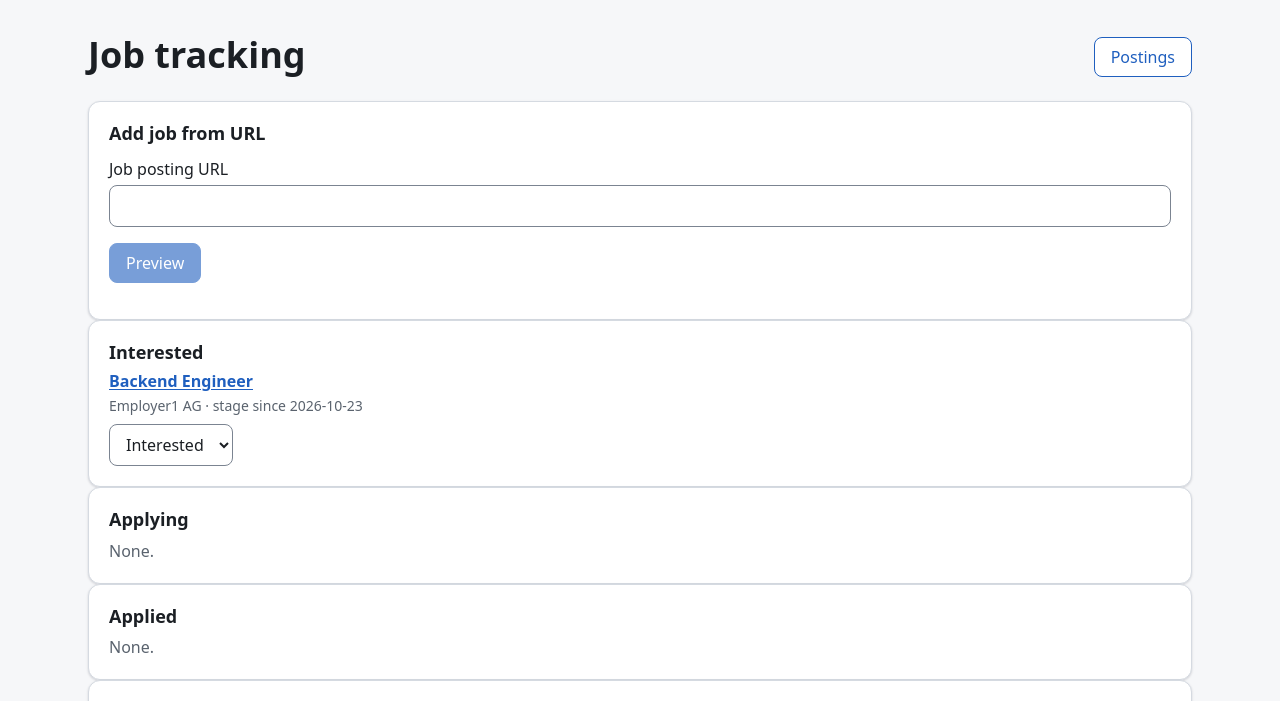
Job Tracking page › keeps the row in its stage and shows a fixed message when the change fails
Check: the link "Backend Engineer" is shown, box [109,370,253,392]
Select "Rejected" in the dropdown named "Stage of Backend Engineer": (171, 445) [109,424,233,466]
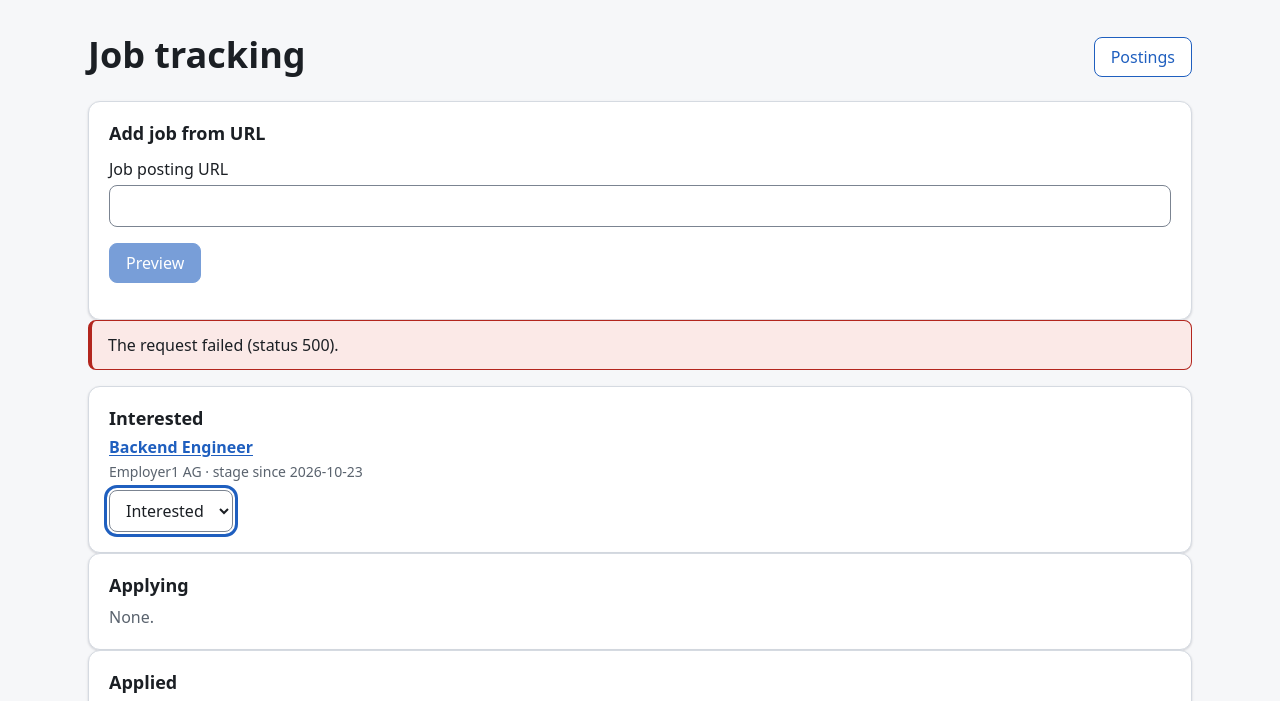
Check: the link "Backend Engineer" is shown, box [109,436,253,458]
Check: the message reads "The request failed (status 500).", box [108,334,339,356]
